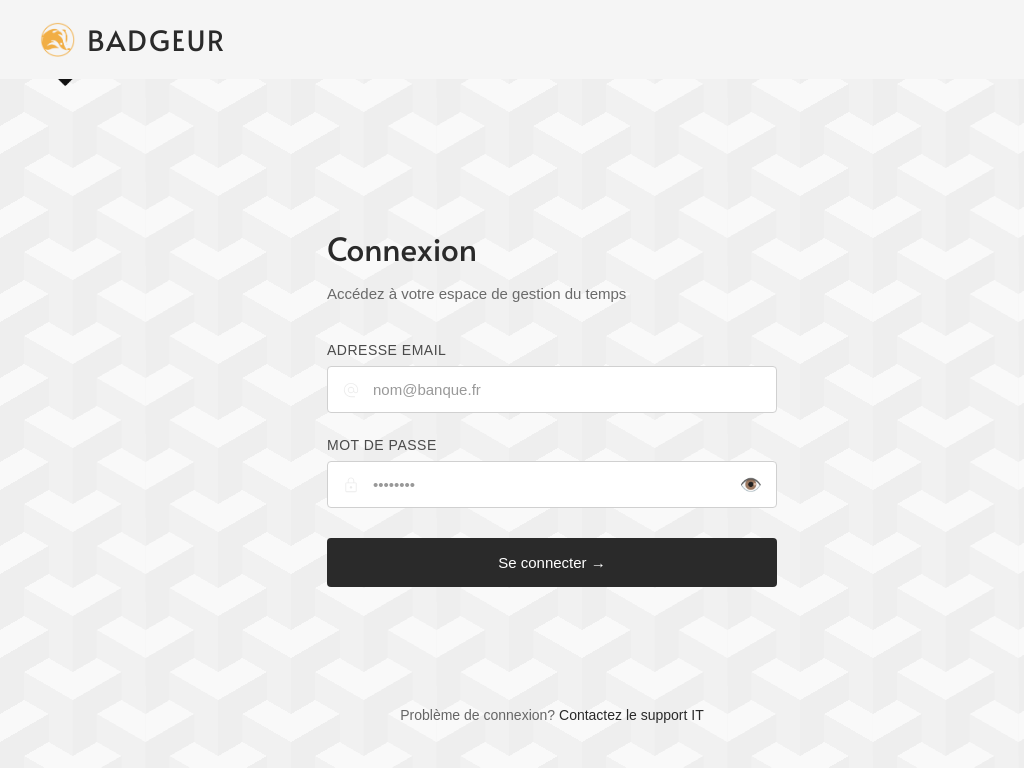
it: Login Component › MFA code input only accepts 6 digits
In the field with placeholder "nom@banque.fr": x=552, y=390 [327,366,777,413], type "john@example.com"
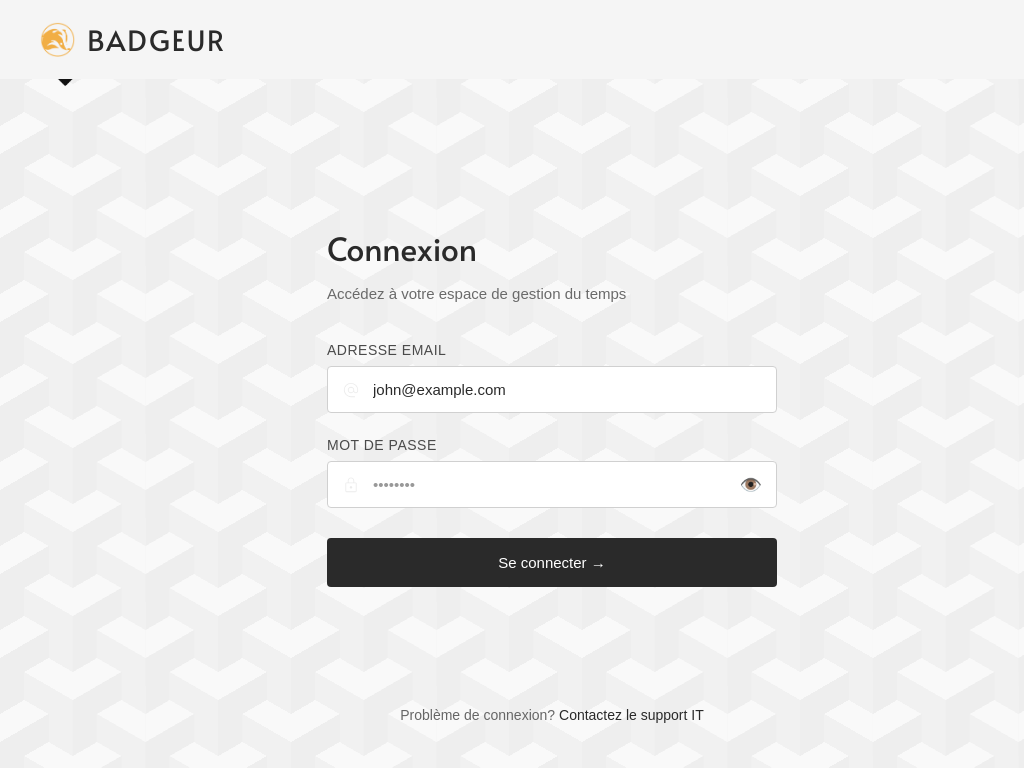
In the password field labelled "Mot de passe": x=552, y=485 [327,461,777,508], type "password123"
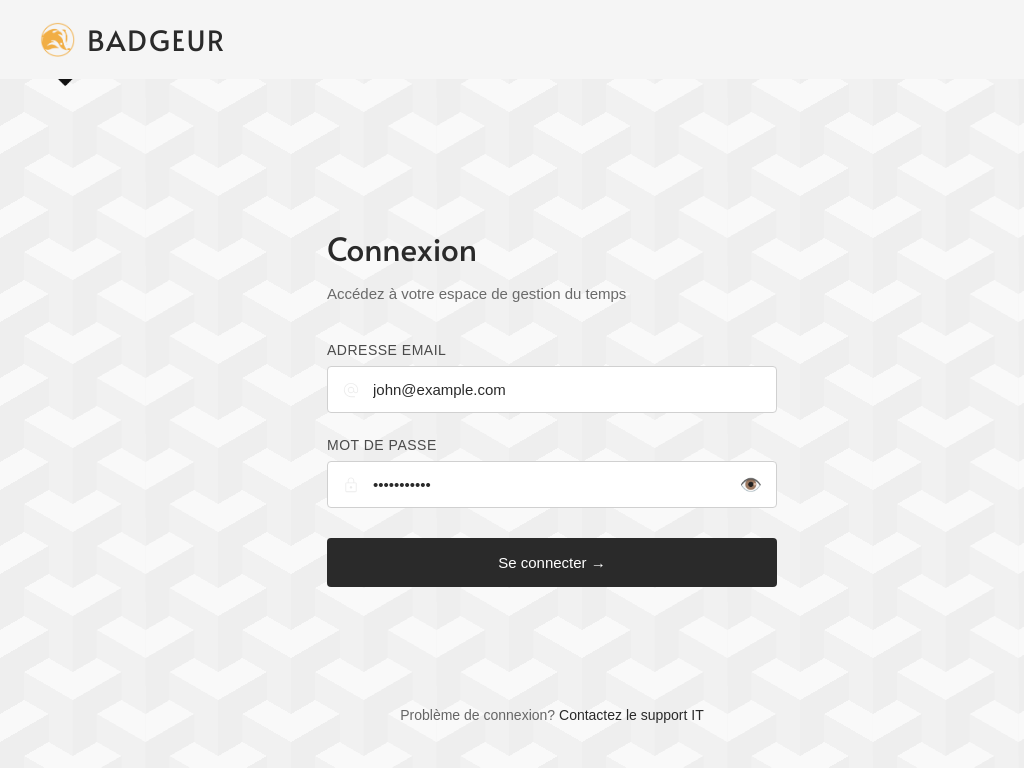
Click the button "Se connecter →": x=552, y=563 [327,538,777,587]
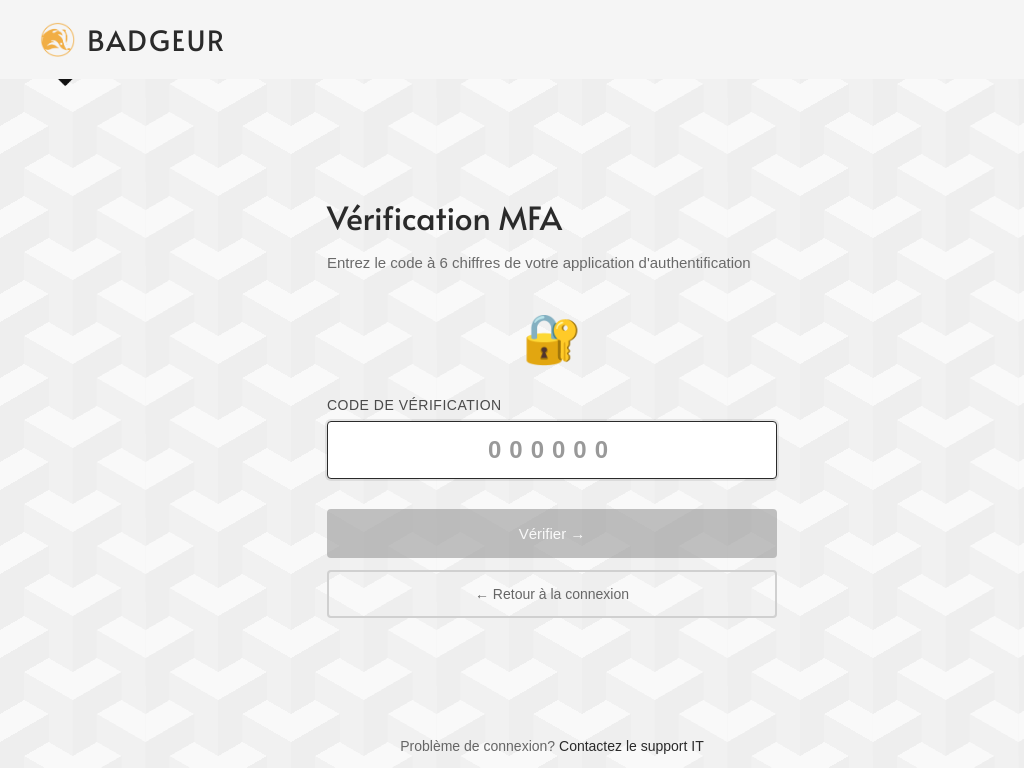
Expected: the field with placeholder "000000" is shown
In the field with placeholder "000000": x=552, y=450 [327,421,777,479], type "abc123"
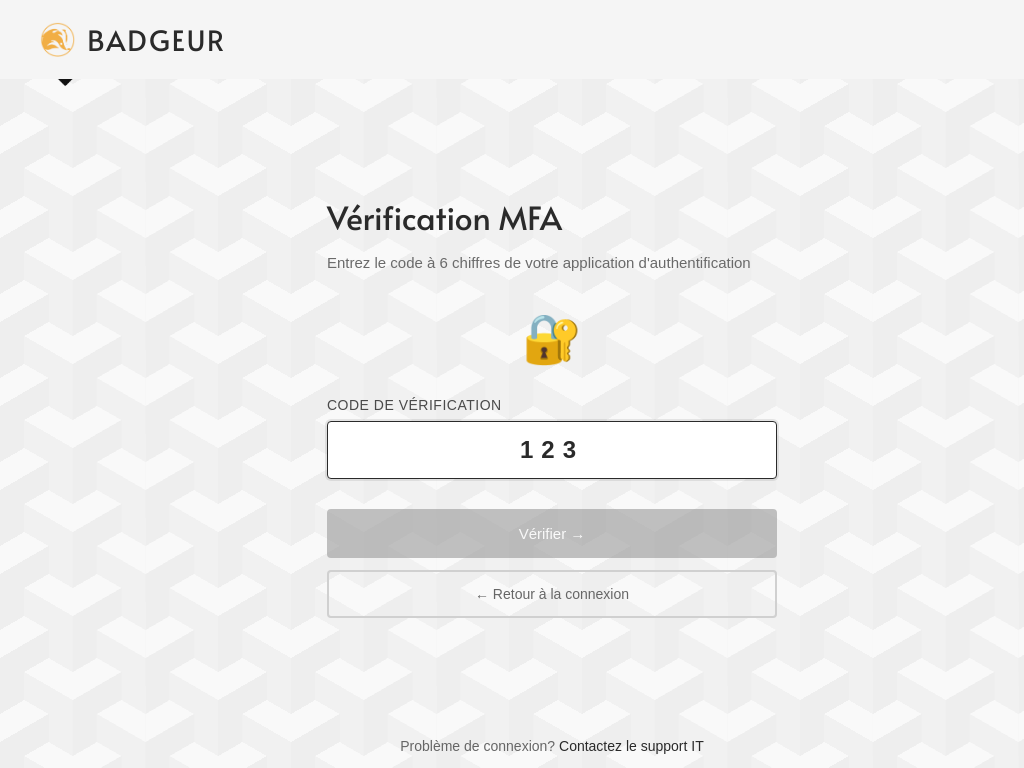
Expected: the field with placeholder "000000" holds "123"
Replace the text in the field with placeholder "000000" with "1234567890": x=552, y=450 [327,421,777,479]
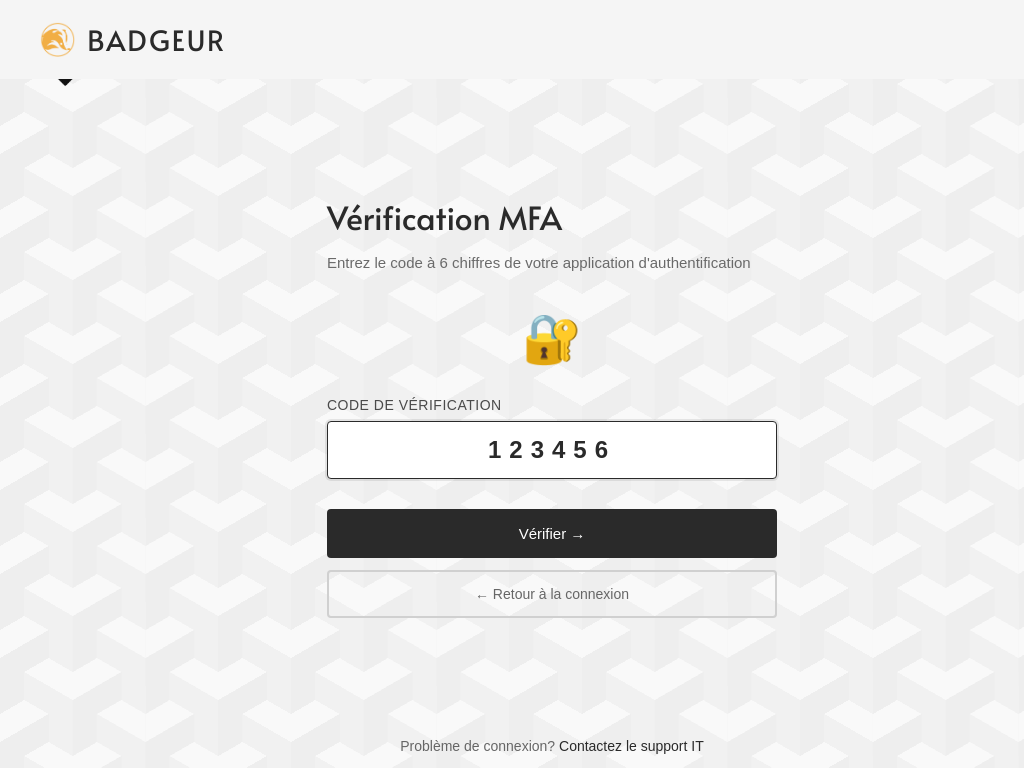
Expected: the field with placeholder "000000" holds "123456", [327,421,777,479]
